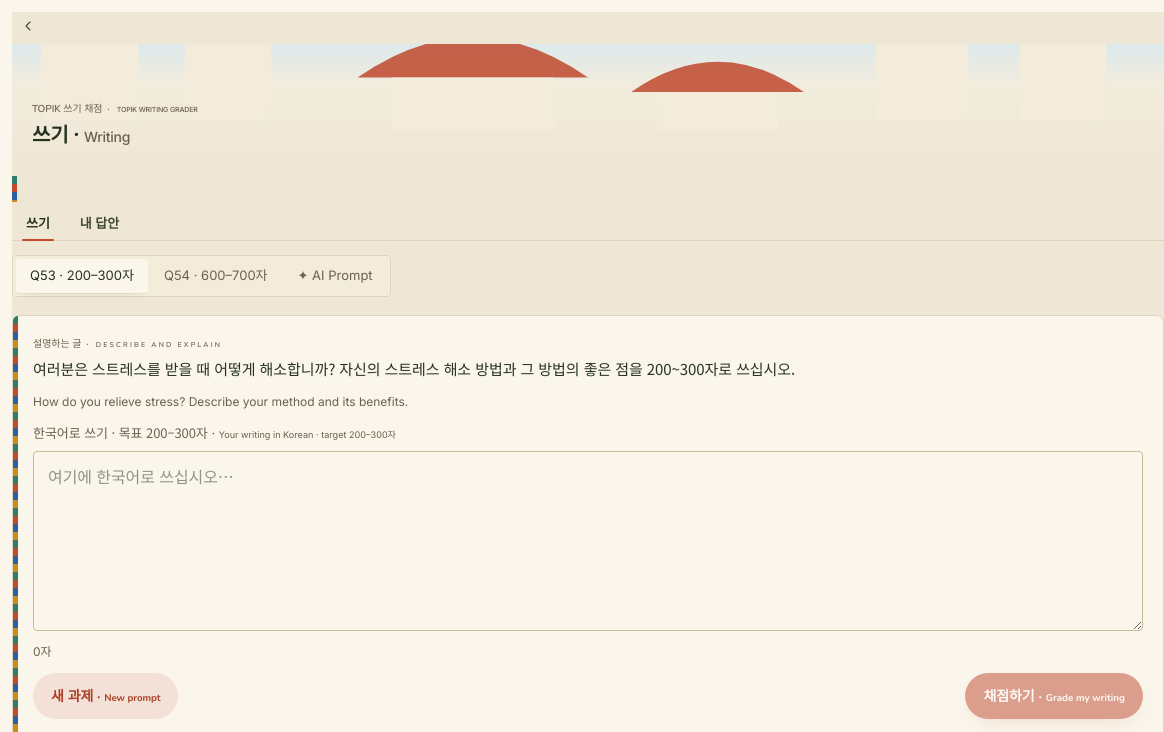
Test: Writing › disables Grade until the learner has written something
Expected: the text "스트레스 해소 방법" is shown, [33,358,795,378]
Expected: the button "채점하기 · Grade my writing" is disabled, [965,673,1143,719]
Type "안녕하세요" into the text box labelled "Your writing in Korean" at (588, 541), box [33,451,1143,631]
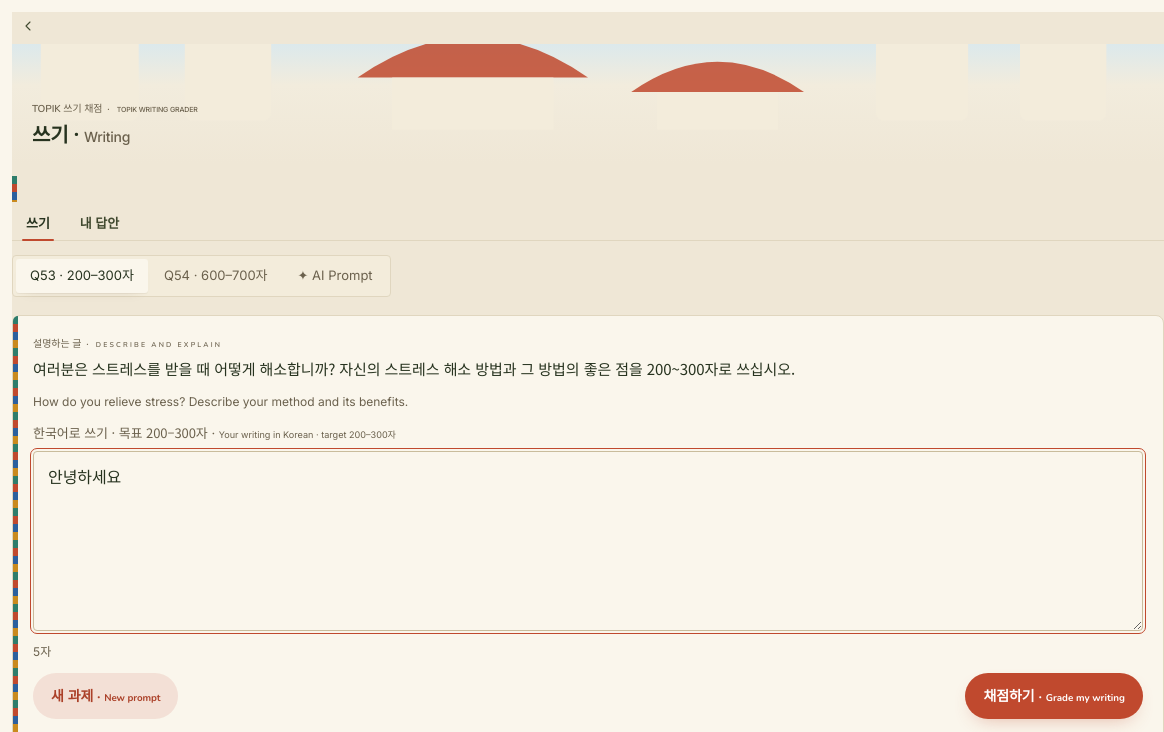
Now the button "채점하기 · Grade my writing" is enabled, box [965,673,1143,719]
